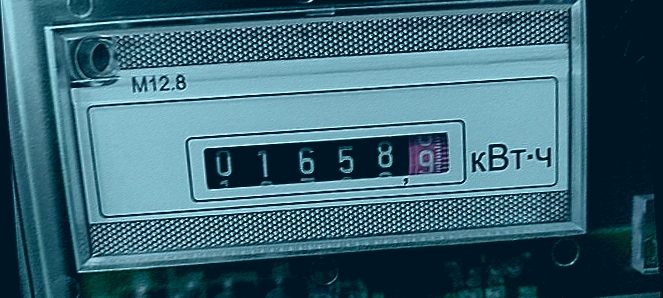0: (211, 145, 234, 178)
1: (255, 147, 270, 178)
5: (335, 142, 356, 175)
6: (295, 143, 317, 176)
8: (374, 137, 395, 170)
9: (414, 147, 434, 174)
screen: (176, 109, 472, 207)
